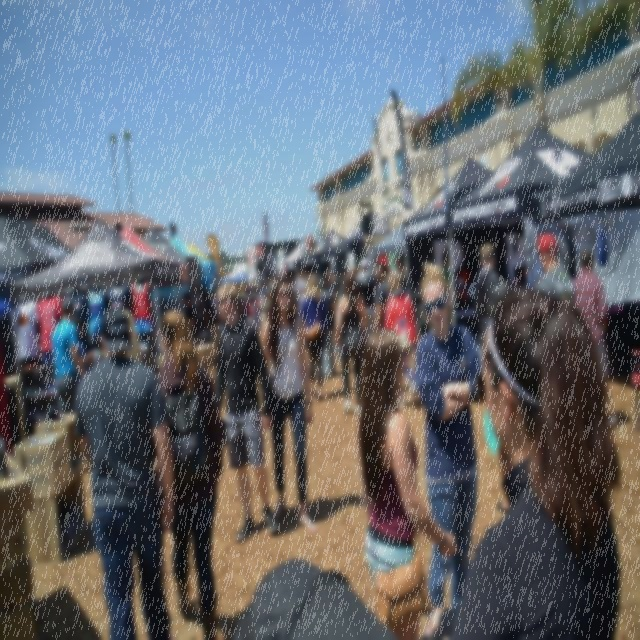pessoa: (427, 288, 620, 640), (70, 304, 178, 640), (355, 326, 463, 639), (412, 262, 483, 621), (154, 308, 224, 640), (206, 281, 280, 546), (260, 278, 318, 534), (572, 248, 616, 428), (382, 272, 419, 411), (334, 272, 368, 417), (50, 297, 86, 416), (298, 271, 328, 403), (96, 306, 146, 369), (533, 232, 576, 300), (474, 242, 500, 352), (319, 273, 338, 380), (354, 258, 378, 340), (71, 315, 96, 380), (204, 288, 221, 368), (372, 263, 390, 332), (438, 250, 459, 298), (182, 292, 200, 340), (390, 256, 408, 292), (256, 288, 274, 322), (234, 277, 262, 297), (296, 269, 308, 314), (327, 268, 339, 306), (250, 282, 260, 327), (262, 279, 272, 322), (338, 264, 361, 282), (282, 270, 301, 290), (374, 270, 390, 292), (236, 296, 248, 319), (270, 272, 282, 289), (290, 274, 297, 301), (218, 319, 228, 336), (305, 269, 318, 282), (243, 280, 250, 294)
